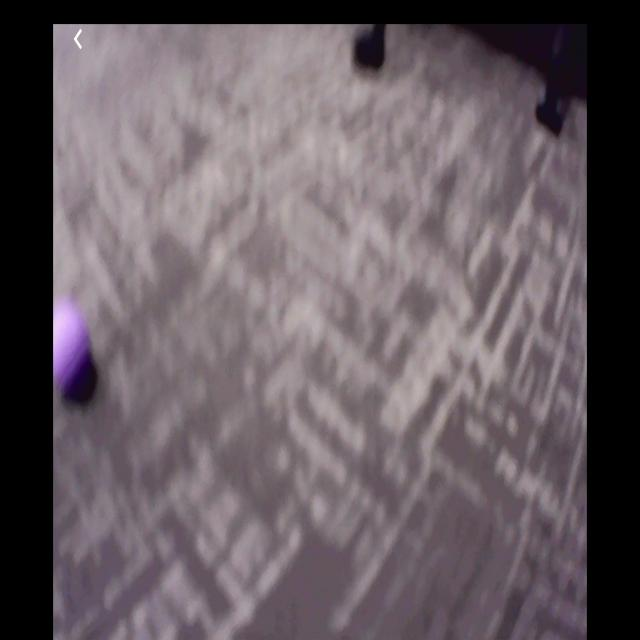ball: (55, 303, 93, 400)
